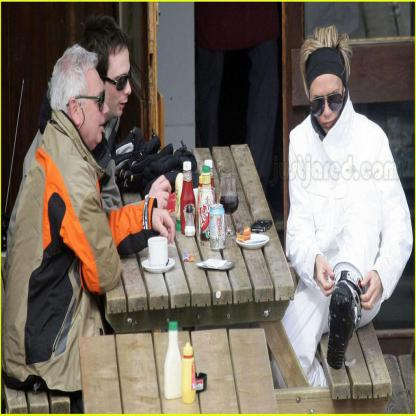face: (310, 67, 346, 137), (80, 67, 109, 149), (105, 46, 131, 120)
